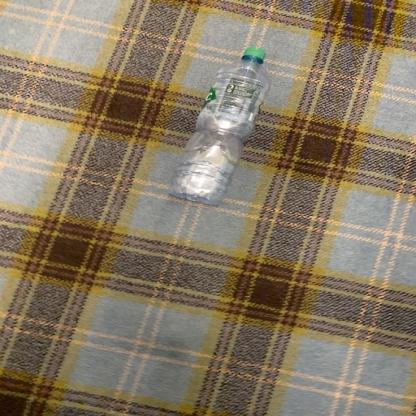trash: (167, 46, 276, 206)
